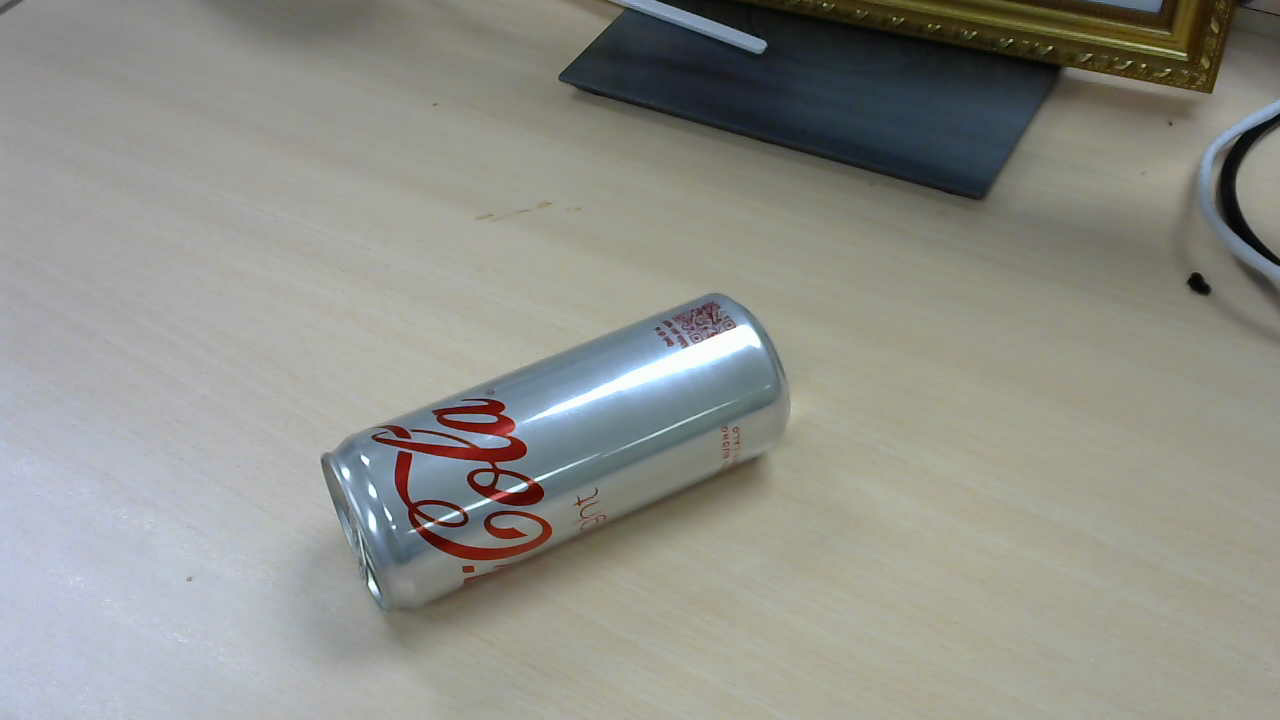Coca_Cola: (327, 297, 797, 619)
